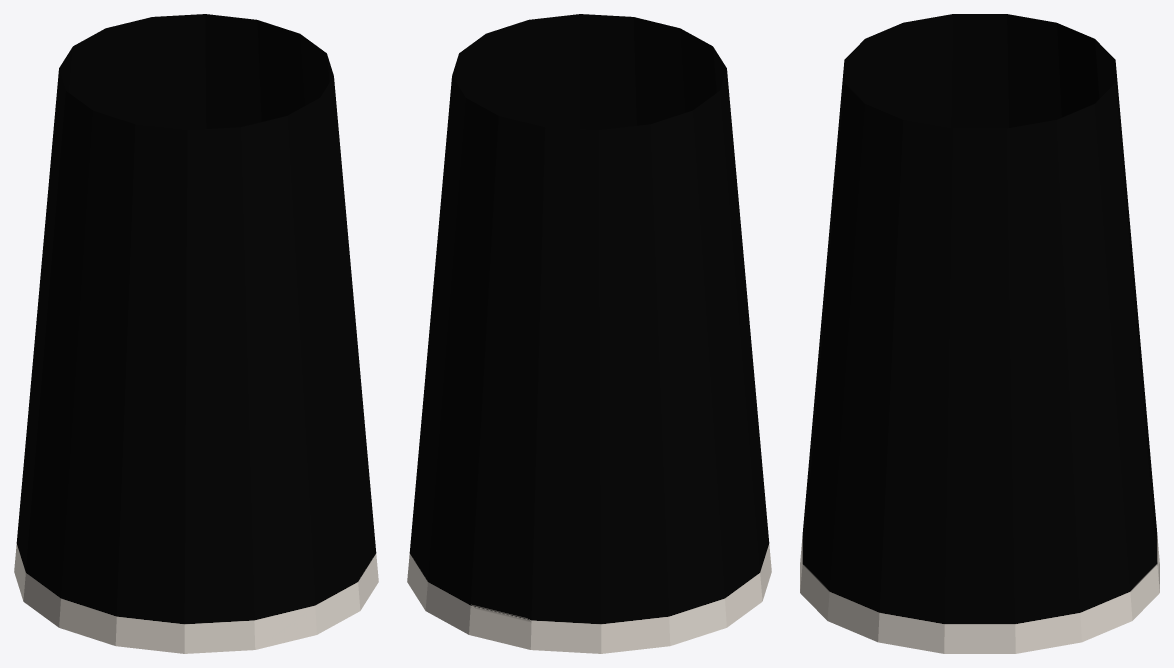
Rendered from fx_completed.obj.
3 views of the same model, side by side, from view 1: azimuth 30°, elevation 25°; view 2: azimuth 150°, elevation 25°; view 3: azimuth 270°, elevation 25° (orthographic).
Parts seen in each view (by area): view 1: Cylinder.008_Cylinder.009; view 2: Cylinder.008_Cylinder.009; view 3: Cylinder.008_Cylinder.009.
Boxes of the visible parts, <box> form: Cylinder.008_Cylinder.009: <box>14,14,378,653</box>; Cylinder.008_Cylinder.009: <box>407,14,771,653</box>; Cylinder.008_Cylinder.009: <box>800,14,1159,653</box>.
Bounding box in the file's own units: 2.6 × 4.04 × 2.6.
